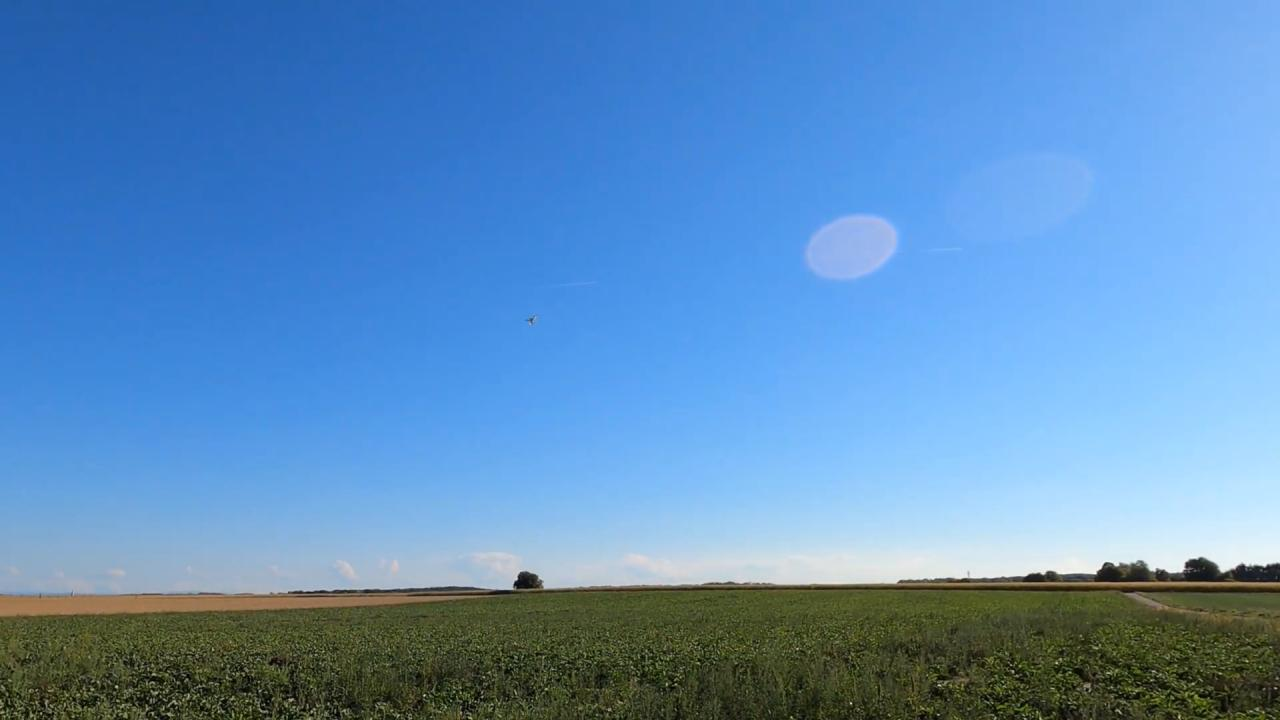Drone: (519, 309, 546, 331)
